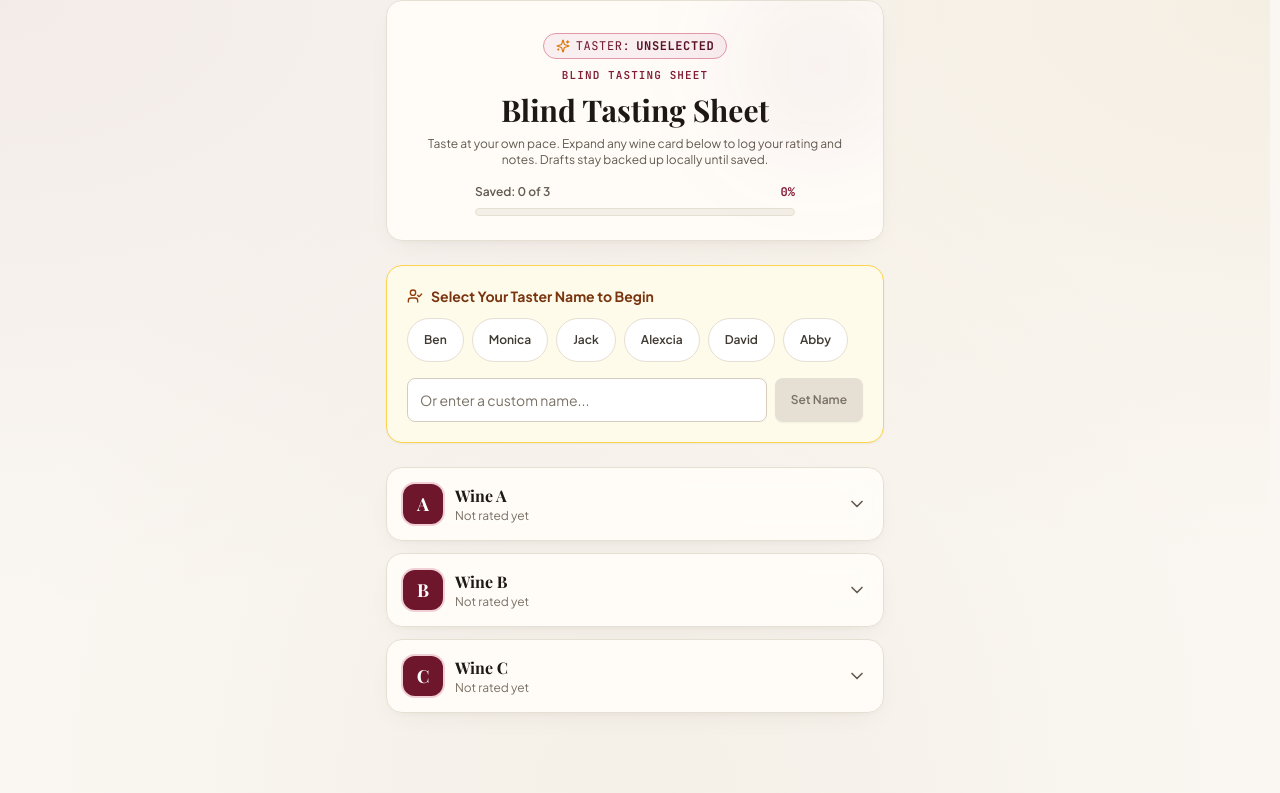
TastingSheet › preserves ratings entered before selecting a taster name when the guest chooses their name
Later steps or results of the test are not shown.
Click the button "A Wine A Not rated yet" at (423, 504), box [387,468,883,540]
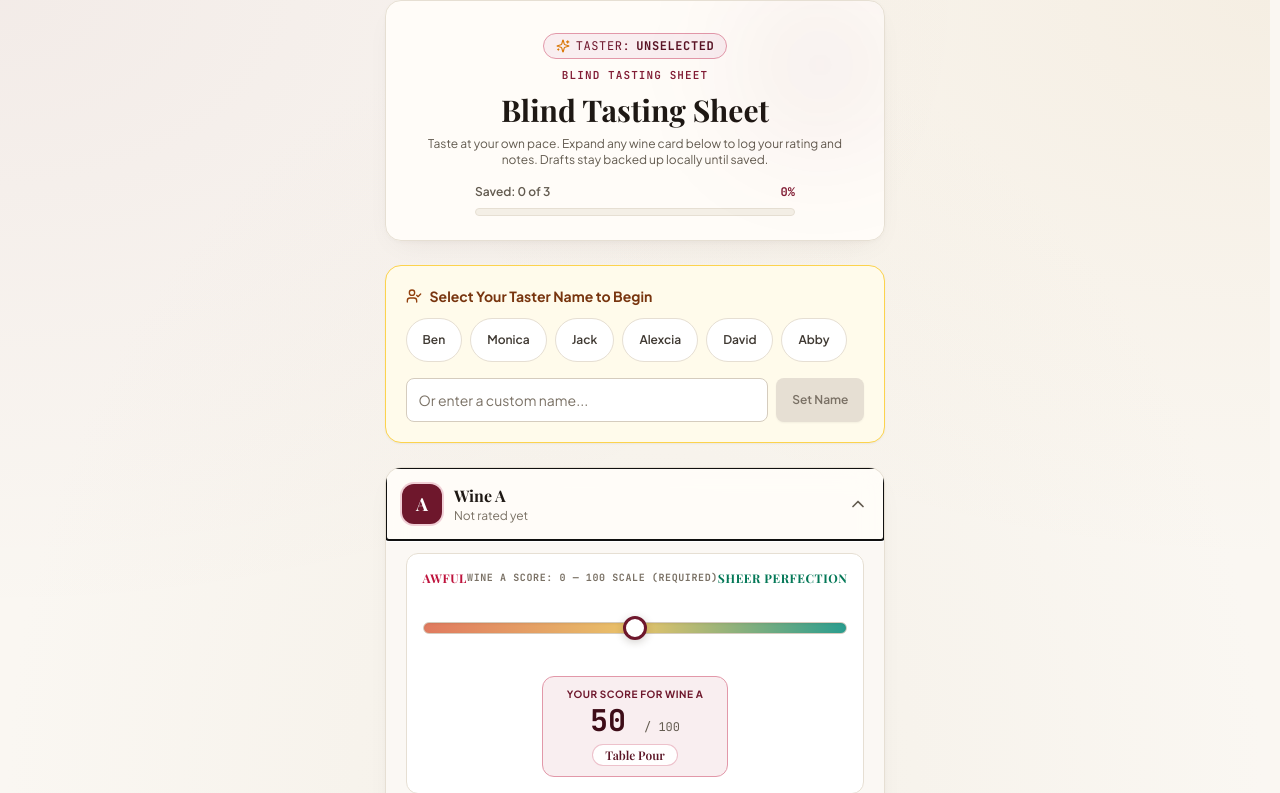
Set the slider labelled "Wine A Score: 0 — 100 Scale (Required)" to "86" at (782, 628), box [422,606,848,650]
(page scrolled)
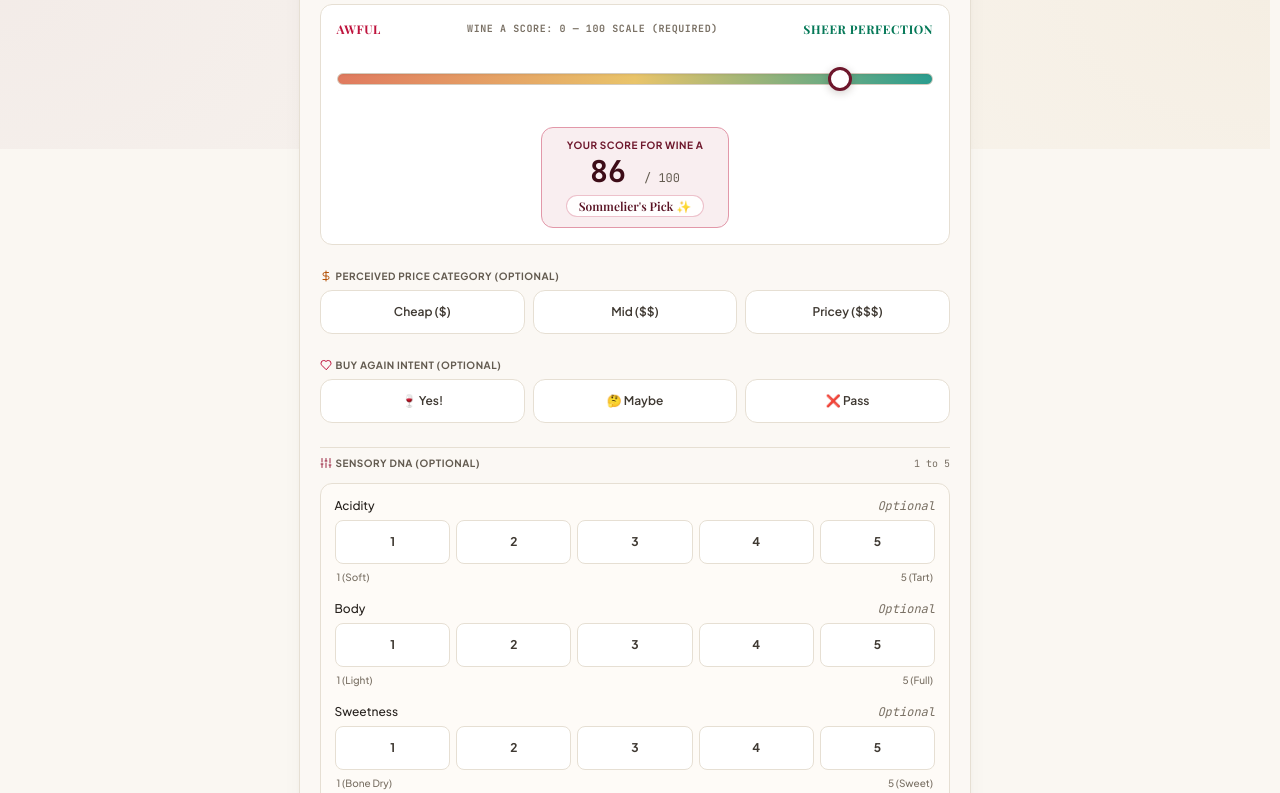
Click the button "🍷 Yes!" at (422, 400), box [320,378,525,422]
(page scrolled)
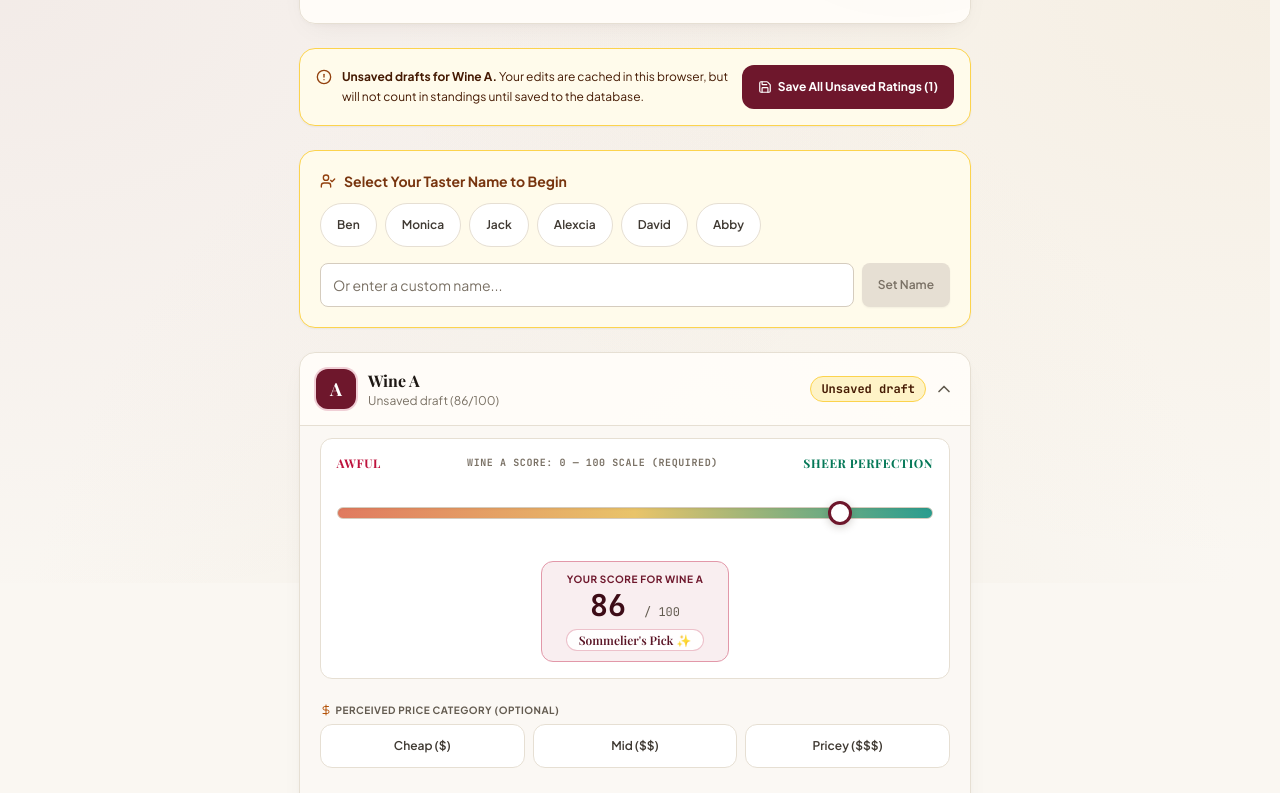
Check: the text "Unsaved draft (86/100)" is shown, box [368,392,499,408]
